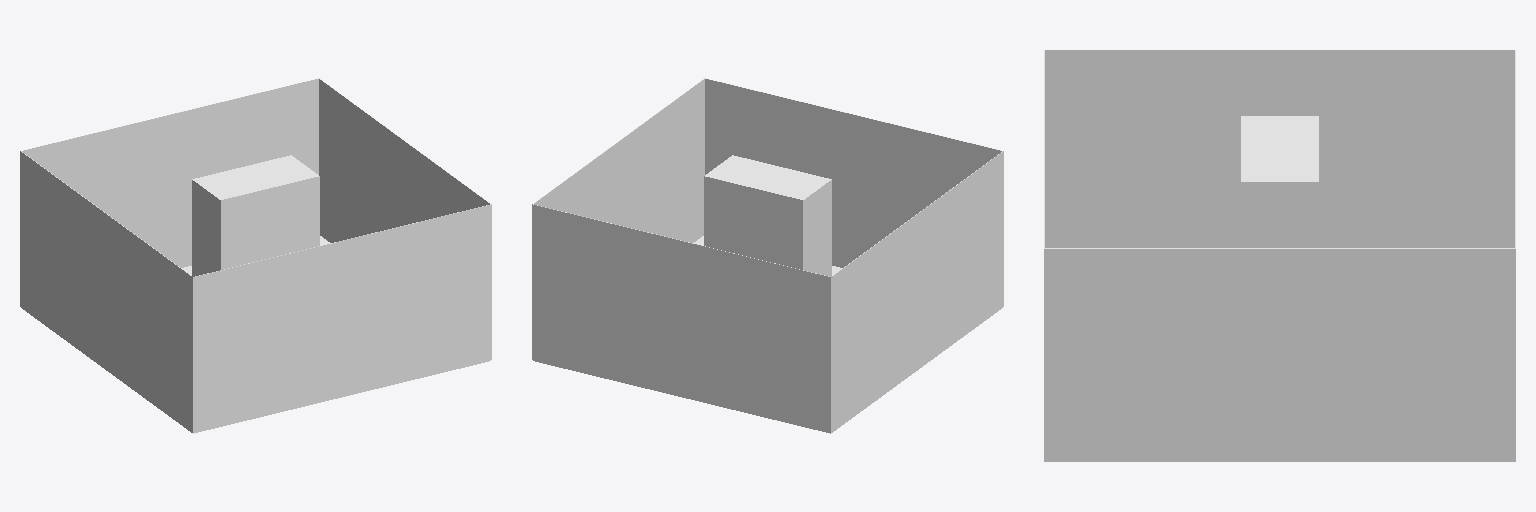
robot.urdf — room6x6:
<?xml version="1.0"?>
<robot name="room6x6">
  <link name="floor_link">
    <visual>
      <geometry>
        <box size="6 6 0.01"/>
      </geometry>
      <origin xyz="0 0 -0.005" rpy="0 0 0"/>
      <material name="white"/>
    </visual>
    <collision>
      <geometry>
        <box size="6 6 0.01"/>
      </geometry>
      <origin xyz="0 0 -0.005" rpy="0 0 0"/>
    </collision>
    <inertial>
      <mass value="972"/>
      <inertia ixx="2916.0081" ixy="0" ixz="0" iyy="2916.0081" iyz="0" izz="5832"/>
      <origin xyz="0 0 -0.005" rpy="0 0 0"/>
    </inertial>
    <contact>
      <lateral_friction value="1"/>
    </contact>
  </link>
  <material name="blue">
    <color rgba="0 0 0.8 1"/>
  </material>
  <material name="black">
    <color rgba="0 0 0 1"/>
  </material>
  <material name="white">
    <color rgba="1 1 1 1"/>
  </material>
  <link name="north_link">
    <visual>
      <geometry>
        <box size="6 0.01 3"/>
      </geometry>
      <origin xyz="0 0 1.5" rpy="0 0 0"/>
      <material name="white"/>
    </visual>
    <collision>
      <geometry>
        <box size="6 0.01 3"/>
      </geometry>
      <origin xyz="0 0 1.5" rpy="0 0 0"/>
    </collision>
    <inertial>
      <mass value="486"/>
      <inertia ixx="364.50405" ixy="0" ixz="0" iyy="1822.5" iyz="0" izz="1458.00405"/>
      <origin xyz="0 0 1.5" rpy="0 0 0"/>
    </inertial>
  </link>
  <joint name="north_joint" type="fixed">
    <parent link="floor_link"/>
    <child link="north_link"/>
    <origin xyz="0 3 0" rpy="0 0 0"/>
  </joint>
  <link name="east_link">
    <visual>
      <geometry>
        <box size="6 0.01 3"/>
      </geometry>
      <origin xyz="0 0 1.5" rpy="0 0 1.570796327"/>
      <material name="white"/>
    </visual>
    <collision>
      <geometry>
        <box size="6 0.01 3"/>
      </geometry>
      <origin xyz="0 0 1.5" rpy="0 0 1.570796327"/>
    </collision>
    <inertial>
      <mass value="486"/>
      <inertia ixx="364.50405" ixy="0" ixz="0" iyy="1822.5" iyz="0" izz="1458.00405"/>
      <origin xyz="0 0 1.5" rpy="0 0 1.570796327"/>
    </inertial>
  </link>
  <joint name="east_joint" type="fixed">
    <parent link="floor_link"/>
    <child link="east_link"/>
    <origin xyz="3 0 0" rpy="0 0 0"/>
  </joint>
  <link name="south_link">
    <visual>
      <geometry>
        <box size="6 0.01 3"/>
      </geometry>
      <origin xyz="0 0 1.5" rpy="0 0 0"/>
      <material name="white"/>
    </visual>
    <collision>
      <geometry>
        <box size="6 0.01 3"/>
      </geometry>
      <origin xyz="0 0 1.5" rpy="0 0 0"/>
    </collision>
    <inertial>
      <mass value="486"/>
      <inertia ixx="364.50405" ixy="0" ixz="0" iyy="1822.5" iyz="0" izz="1458.00405"/>
      <origin xyz="0 0 1.5" rpy="0 0 0"/>
    </inertial>
  </link>
  <joint name="south_joint" type="fixed">
    <parent link="floor_link"/>
    <child link="south_link"/>
    <origin xyz="0 -3 0" rpy="0 0 0"/>
  </joint>
  <link name="west_link">
    <visual>
      <geometry>
        <box size="6 0.01 3"/>
      </geometry>
      <origin xyz="0 0 1.5" rpy="0 0 1.570796327"/>
      <material name="white"/>
    </visual>
    <collision>
      <geometry>
        <box size="6 0.01 3"/>
      </geometry>
      <origin xyz="0 0 1.5" rpy="0 0 1.570796327"/>
    </collision>
    <inertial>
      <mass value="486"/>
      <inertia ixx="364.50405" ixy="0" ixz="0" iyy="1822.5" iyz="0" izz="1458.00405"/>
      <origin xyz="0 0 1.5" rpy="0 0 1.570796327"/>
    </inertial>
  </link>
  <joint name="west_joint" type="fixed">
    <parent link="floor_link"/>
    <child link="west_link"/>
    <origin xyz="-3 0 0" rpy="0 0 0"/>
  </joint>
  <link name="center_link">
    <visual>
      <geometry>
        <box size="2 1 3"/>
      </geometry>
      <origin xyz="0 0 1.5" rpy="0 0 0"/>
      <material name="white"/>
    </visual>
    <collision>
      <geometry>
        <box size="2 1 3"/>
      </geometry>
      <origin xyz="0 0 1.5" rpy="0 0 0"/>
    </collision>
    <inertial>
      <mass value="16200"/>
      <inertia ixx="13500" ixy="0" ixz="0" iyy="17550" iyz="0" izz="6750"/>
      <origin xyz="0 0 1.5" rpy="0 0 0"/>
    </inertial>
  </link>
  <joint name="center_joint" type="fixed">
    <parent link="floor_link"/>
    <child link="center_link"/>
    <origin xyz="0 0 0" rpy="0 0 0"/>
  </joint>
</robot>

--- Facts derived from the render (not from the file) ---
The picture shows the robot from 3 angles, left to right: view 1: azimuth 30°, elevation 25°; view 2: azimuth 150°, elevation 25°; view 3: azimuth 270°, elevation 25°; orthographic projection.
Robot: room6x6 — 6 links, 5 joints (5 fixed); root link floor_link; default pose: every joint at zero.
Visible links, largest first — view 1: south_link, west_link, north_link, east_link, center_link; view 2: north_link, west_link, south_link, east_link, center_link; view 3: east_link, west_link, center_link.
Link boxes in pixels (x1,y1,x2,y2): south_link: (193, 204, 490, 432); west_link: (20, 151, 192, 432); north_link: (22, 78, 318, 267); east_link: (319, 78, 491, 359); center_link: (192, 155, 319, 276); north_link: (533, 204, 830, 432); west_link: (831, 151, 1003, 432); south_link: (705, 78, 1001, 267); east_link: (532, 78, 704, 359); center_link: (704, 155, 831, 276); east_link: (1045, 248, 1514, 461); west_link: (1045, 50, 1514, 247); center_link: (1241, 116, 1318, 247).
Bounding box of the posed robot: 6.01 × 6.01 × 3.01 m (x, y, z).
Geometry: primitives only (box / cylinder / sphere), no mesh files.